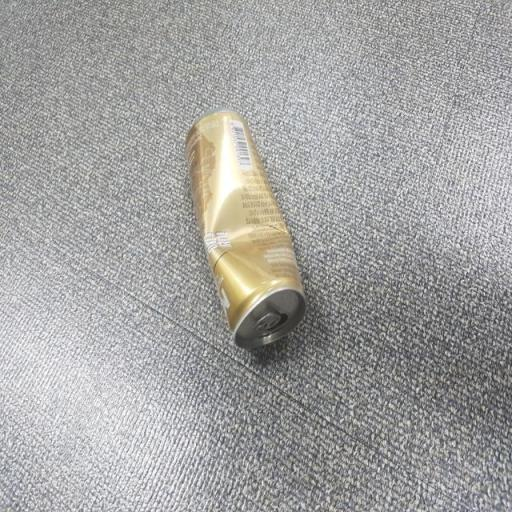metal: (176, 99, 322, 397)
